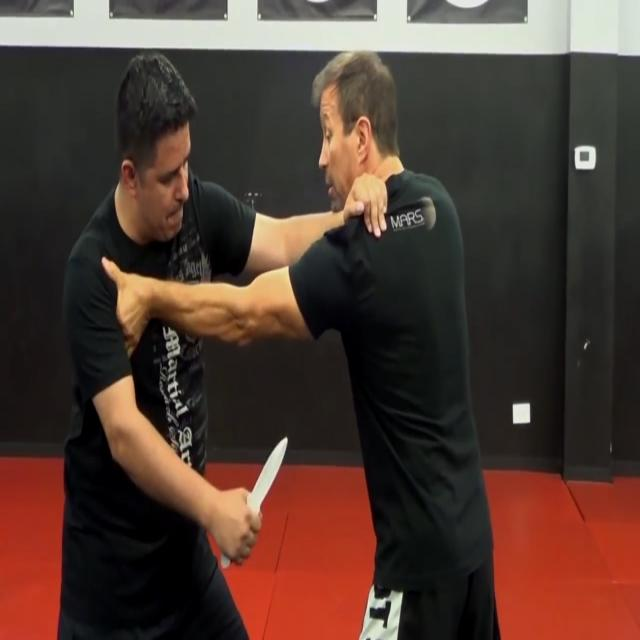knife: (250, 434, 294, 529)
